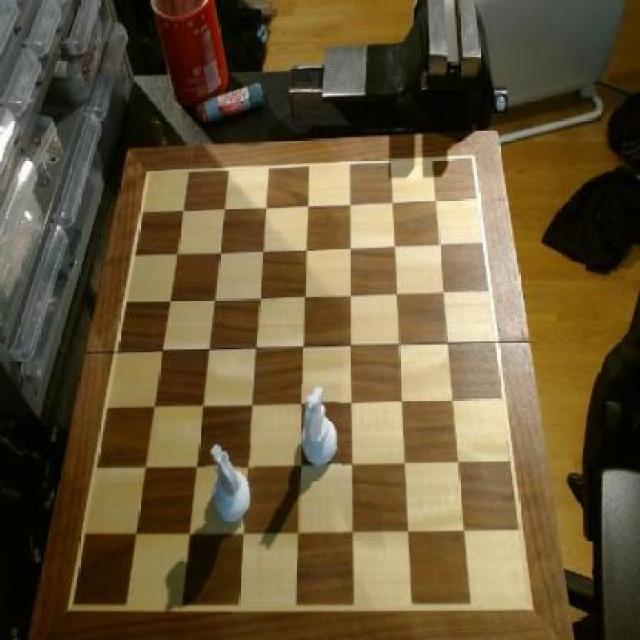white-king: (207, 441, 256, 524), (297, 385, 341, 473)
